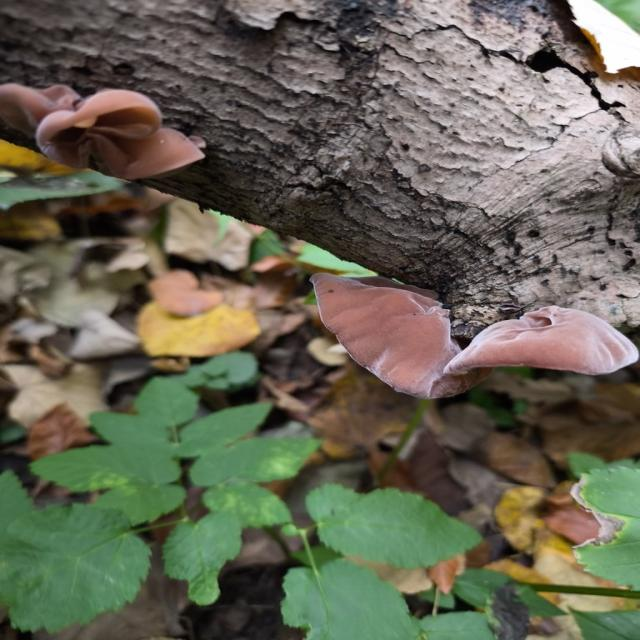Matang: (306, 255, 494, 404), (0, 82, 212, 181), (441, 305, 640, 381)
